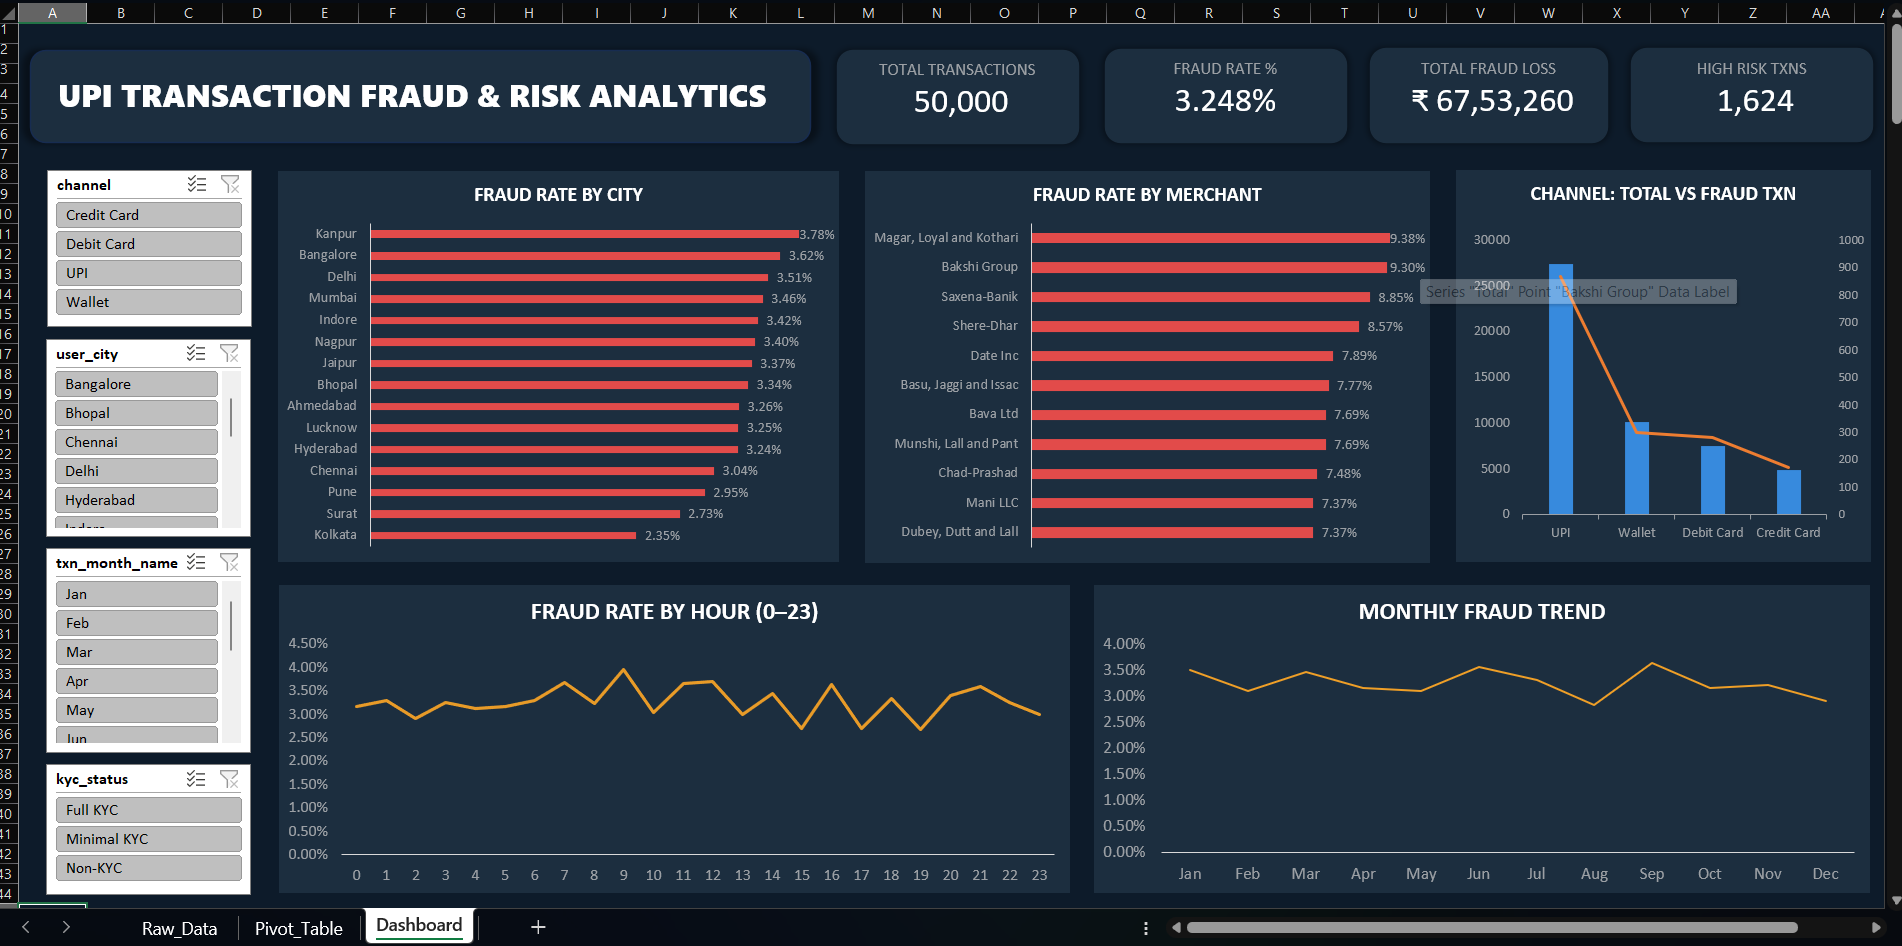

This screenshot's page, from the dashboard's own definition file:
{"tool":"powerbi","page":{"name":"EXECUTIVE OVERVIEW","canvas":[1280,720],"ordinal":0},"visuals":[{"type":"cardVisual","fields":{"Data":["Mesures.Fraud Rate %"]},"box":[809.5,15.9,226.2,110.1],"z":0},{"type":"cardVisual","fields":{"Data":["Mesures.Failure Rate %"]},"box":[278.8,19.6,236,110.1],"z":1000},{"type":"lineChart","title":"Monthly Fraud Trend","fields":{"Y":["Mesures.Fraud Rate %"],"Category":["Transactions.Month Name"]},"box":[18.3,149.2,496.5,266.6],"z":2000},{"type":"clusteredBarChart","title":"Fraud Rate by City","fields":{"Category":["Users.user_city"],"Y":["Mesures.Fraud Rate %"]},"box":[541.7,149.2,494,266.6],"z":3000},{"type":"donutChart","title":"Transaction Status Distribution","fields":{"Category":["Transactions.status"],"Y":["Count(Transactions.txn_id)"]},"box":[18.3,432.9,496.5,277.6],"z":4000},{"type":"clusteredColumnChart","title":"Fraud Rate by Channel","fields":{"Category":["Transactions.channel"],"Y":["Mesures.Fraud Rate %"]},"box":[541.7,432.9,494,277.6],"z":5000},{"type":"slicer","fields":{"Values":["Transactions.channel"]},"box":[1049.2,244.6,209.1,156.5],"z":6000},{"type":"slicer","fields":{"Values":["Users.user_city"]},"box":[1048,431.7,209.1,278.8],"z":7000},{"type":"slicer","fields":{"Values":["Transactions.timestamp"]},"box":[1048,15.9,209.1,210.3],"z":8000},{"type":"cardVisual","fields":{"Data":["Mesures.Total Fraud Loss Display"]},"box":[529.5,19.6,259.2,106.4],"z":9000},{"type":"cardVisual","fields":{"Data":["Mesures.Total Transactions Display"]},"box":[18.3,19.6,248.2,110.1],"z":10000}]}

Visuals, with their boxes on the page's 1280x720 design canvas (x1, y1, x2, y2). These are canvas units, not pixel positions in the 1902x946 screenshot, which may show the page scaled, cropped or inside an application window:
cardVisual - Mesures.Fraud Rate %: (left=810, top=16, right=1036, bottom=126)
cardVisual - Mesures.Failure Rate %: (left=279, top=20, right=515, bottom=130)
"Monthly Fraud Trend" lineChart: (left=18, top=149, right=515, bottom=416)
"Fraud Rate by City" clusteredBarChart: (left=542, top=149, right=1036, bottom=416)
"Transaction Status Distribution" donutChart: (left=18, top=433, right=515, bottom=710)
"Fraud Rate by Channel" clusteredColumnChart: (left=542, top=433, right=1036, bottom=710)
slicer - Transactions.channel: (left=1049, top=245, right=1258, bottom=401)
slicer - Users.user_city: (left=1048, top=432, right=1257, bottom=710)
slicer - Transactions.timestamp: (left=1048, top=16, right=1257, bottom=226)
cardVisual - Mesures.Total Fraud Loss Display: (left=530, top=20, right=789, bottom=126)
cardVisual - Mesures.Total Transactions Display: (left=18, top=20, right=266, bottom=130)
